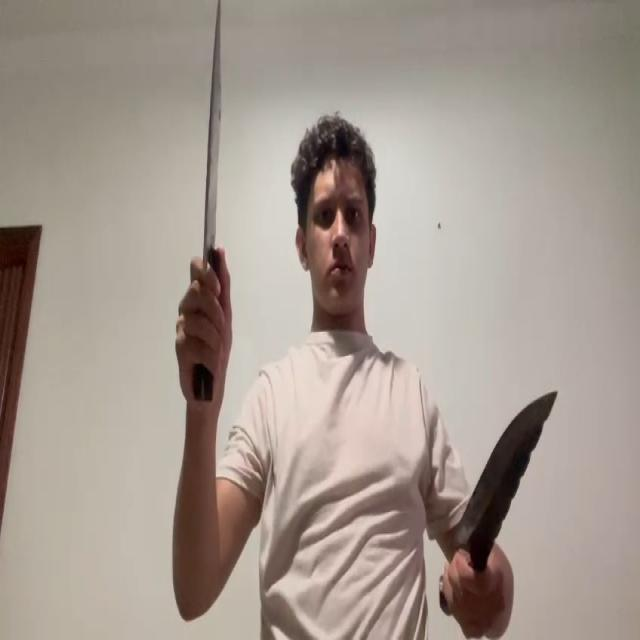knife: (456, 390, 558, 546), (198, 1, 226, 267)
